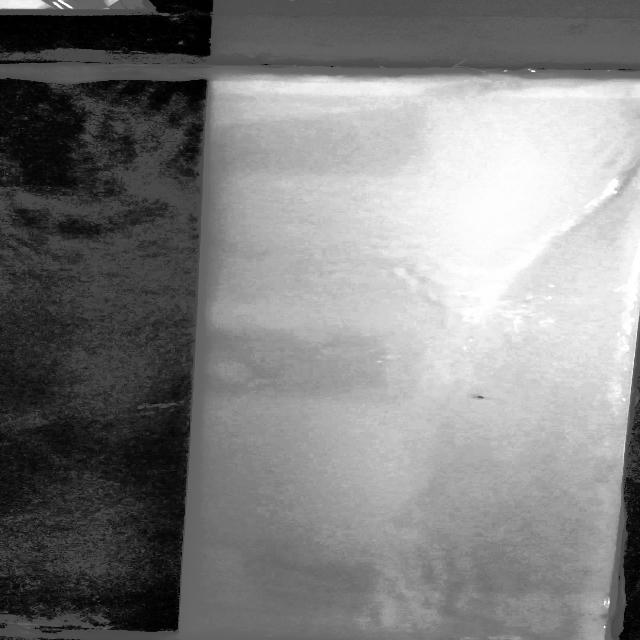shrimp: (454, 388, 498, 404)
